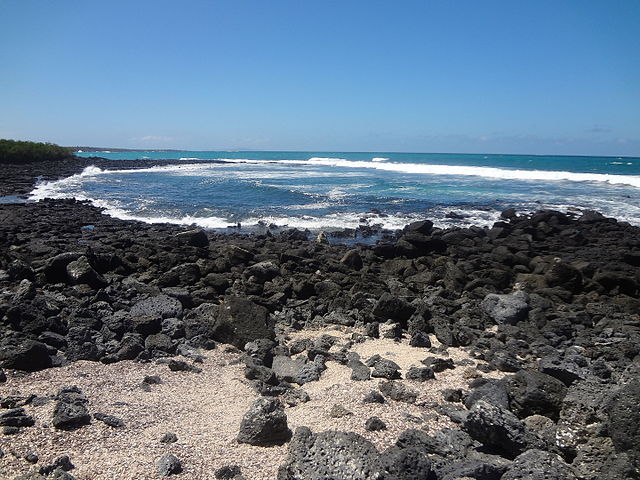volcanic_rock: (10, 237, 217, 343), (455, 243, 635, 333), (290, 429, 369, 480), (503, 371, 573, 425), (502, 446, 592, 480), (227, 294, 276, 344)
